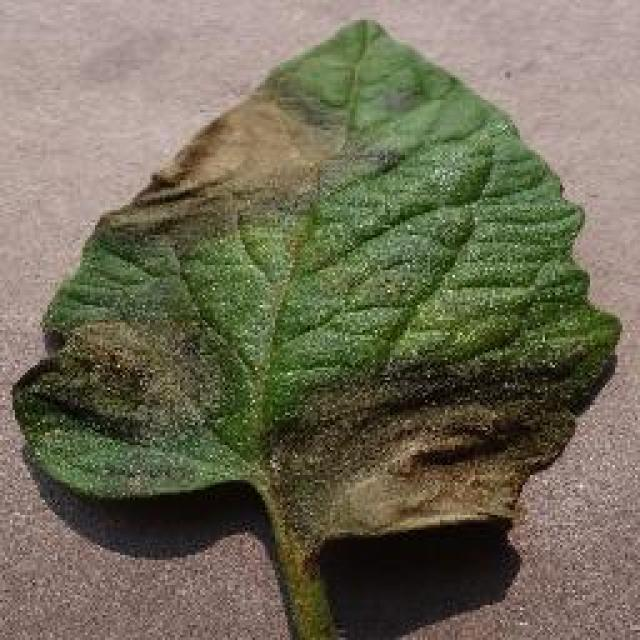Tomato___Late_blight: (10, 20, 620, 638)
